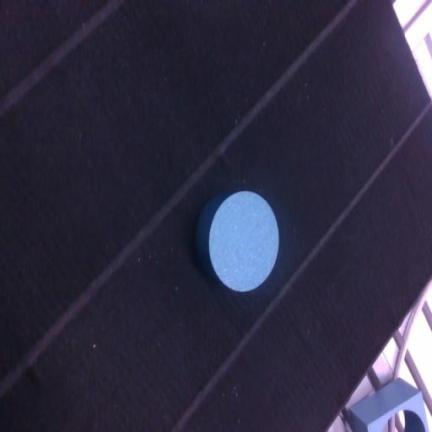cylinder: (196, 191, 278, 292)
